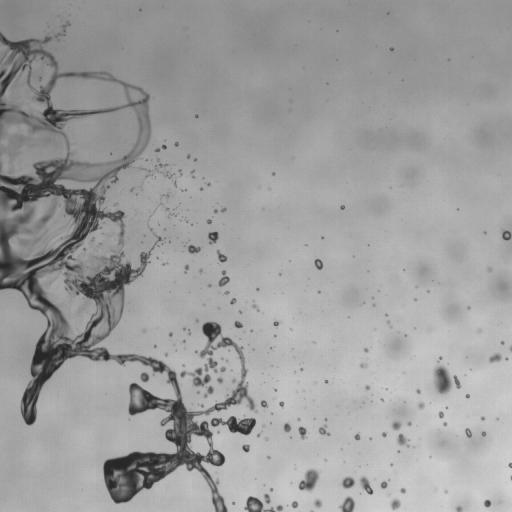droplet: (433, 363, 460, 394), (137, 158, 173, 178), (298, 468, 319, 492), (359, 476, 373, 494), (339, 496, 354, 511), (218, 270, 229, 286), (396, 433, 409, 446), (341, 476, 354, 488), (216, 250, 227, 263), (208, 231, 218, 244), (318, 425, 329, 436), (187, 244, 200, 253), (298, 426, 307, 439), (390, 498, 400, 509), (489, 353, 501, 362), (502, 230, 511, 240), (140, 372, 149, 382), (391, 421, 401, 430), (314, 259, 322, 269), (283, 422, 291, 432), (313, 499, 322, 507), (263, 494, 270, 503), (234, 321, 242, 328), (242, 444, 249, 452), (380, 481, 387, 489), (484, 499, 491, 507), (465, 428, 471, 437), (252, 303, 259, 310), (291, 501, 298, 508), (359, 362, 367, 368), (273, 320, 280, 326), (261, 400, 267, 407), (418, 402, 424, 409), (354, 433, 360, 440), (184, 264, 189, 272), (230, 298, 236, 304), (217, 377, 223, 383), (438, 411, 443, 418), (455, 506, 462, 511), (220, 366, 225, 372), (279, 401, 284, 407), (400, 488, 405, 493), (161, 145, 166, 149), (130, 187, 135, 191), (206, 219, 211, 223), (365, 385, 369, 390), (481, 431, 485, 436), (382, 432, 386, 437), (508, 462, 511, 468), (340, 205, 344, 209), (221, 208, 225, 212), (487, 267, 491, 271), (168, 332, 172, 336), (364, 348, 368, 352), (416, 389, 420, 393), (443, 422, 447, 426), (175, 142, 178, 146), (155, 148, 159, 151), (207, 182, 210, 186), (114, 202, 117, 206), (214, 209, 217, 213), (107, 233, 111, 236), (162, 262, 166, 265), (199, 269, 202, 273), (47, 281, 51, 284), (224, 291, 228, 294), (438, 356, 441, 360), (481, 416, 484, 420), (407, 422, 411, 425), (390, 47, 393, 50), (191, 170, 194, 173), (98, 243, 101, 246), (501, 341, 504, 344), (466, 394, 469, 397), (257, 433, 260, 436), (265, 437, 268, 440), (174, 181, 176, 185), (195, 115, 198, 117), (0, 152, 2, 155), (187, 155, 190, 157), (208, 284, 210, 287), (239, 310, 241, 313), (182, 340, 185, 342), (164, 353, 167, 355), (232, 380, 235, 382), (325, 380, 327, 383), (199, 404, 202, 406), (297, 418, 300, 420), (270, 488, 272, 491), (444, 490, 447, 492), (232, 502, 235, 504), (1, 147, 3, 149), (183, 189, 185, 191), (158, 203, 160, 205), (186, 220, 188, 222), (484, 231, 486, 233), (91, 238, 93, 240), (318, 291, 320, 293), (468, 306, 470, 308), (196, 319, 198, 321), (478, 330, 480, 332), (506, 358, 508, 360), (381, 399, 383, 401), (324, 418, 326, 420)
ligament: (0, 32, 256, 511), (244, 496, 282, 511), (54, 22, 69, 38), (164, 206, 177, 216), (183, 327, 190, 334), (161, 193, 169, 197), (387, 320, 391, 327), (178, 170, 182, 175), (509, 345, 511, 352), (510, 476, 511, 479)
